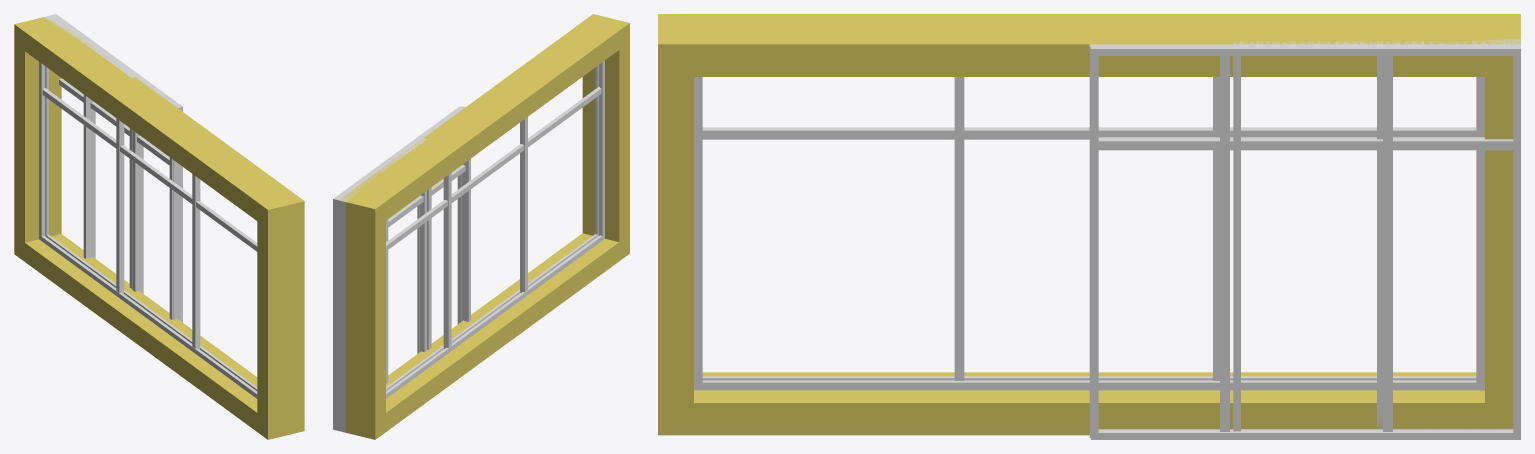
File: ModularOffice3.fbx
3 renders of one model, left to right at view 1: azimuth 30°, elevation 25°; view 2: azimuth 150°, elevation 25°; view 3: azimuth 270°, elevation 25°, orthographic. The views are drawn at different scales.
Visible parts, largest first — view 1: ExteriorWindow, GlassWalldoors, GlassWall3m, GlassWall1m, GlassWall2m; view 2: ExteriorWindow, GlassWall3m, GlassWall2m, GlassWalldoors, GlassWall1m; view 3: ExteriorWindow, GlassWall3m, GlassWalldoors, GlassWall2m, GlassWall1m.
Part boxes in pixels (x1,y1,x2,y2): ExteriorWindow: [14, 17, 304, 439]; GlassWalldoors: [52, 17, 181, 320]; GlassWall3m: [46, 14, 182, 322]; GlassWall1m: [44, 16, 93, 258]; GlassWall2m: [49, 16, 138, 288]; ExteriorWindow: [339, 14, 629, 439]; GlassWall3m: [333, 106, 470, 432]; GlassWall2m: [335, 137, 426, 430]; GlassWalldoors: [336, 106, 465, 349]; GlassWall1m: [338, 187, 388, 432]; ExteriorWindow: [658, 14, 1520, 435]; GlassWall3m: [1091, 39, 1520, 439]; GlassWalldoors: [1089, 43, 1520, 438]; GlassWall2m: [1233, 41, 1520, 431]; GlassWall1m: [1377, 39, 1520, 429].
Size of the model in its own units: 57.5 by 300 by 600.
